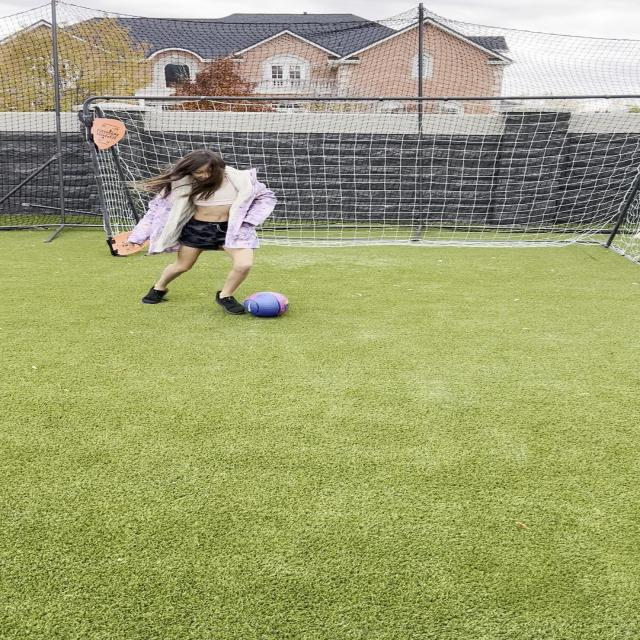Soccer Ball: (246, 292, 291, 318)
